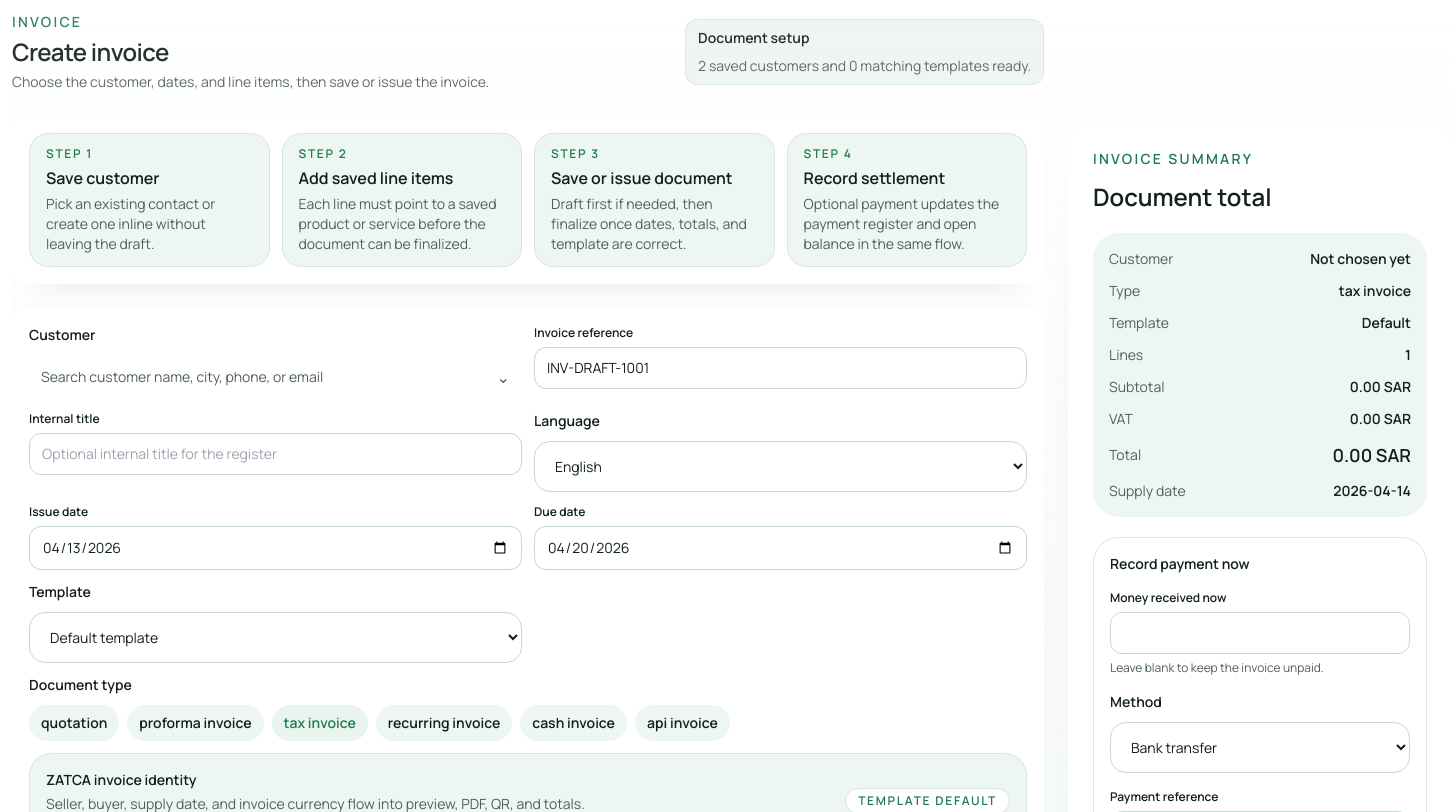
Test case: transaction workflow layer › searchable pickers open and filter real options
Click the button "customer".
click(276, 377)  # box x1=29 y1=355 x2=522 y2=399
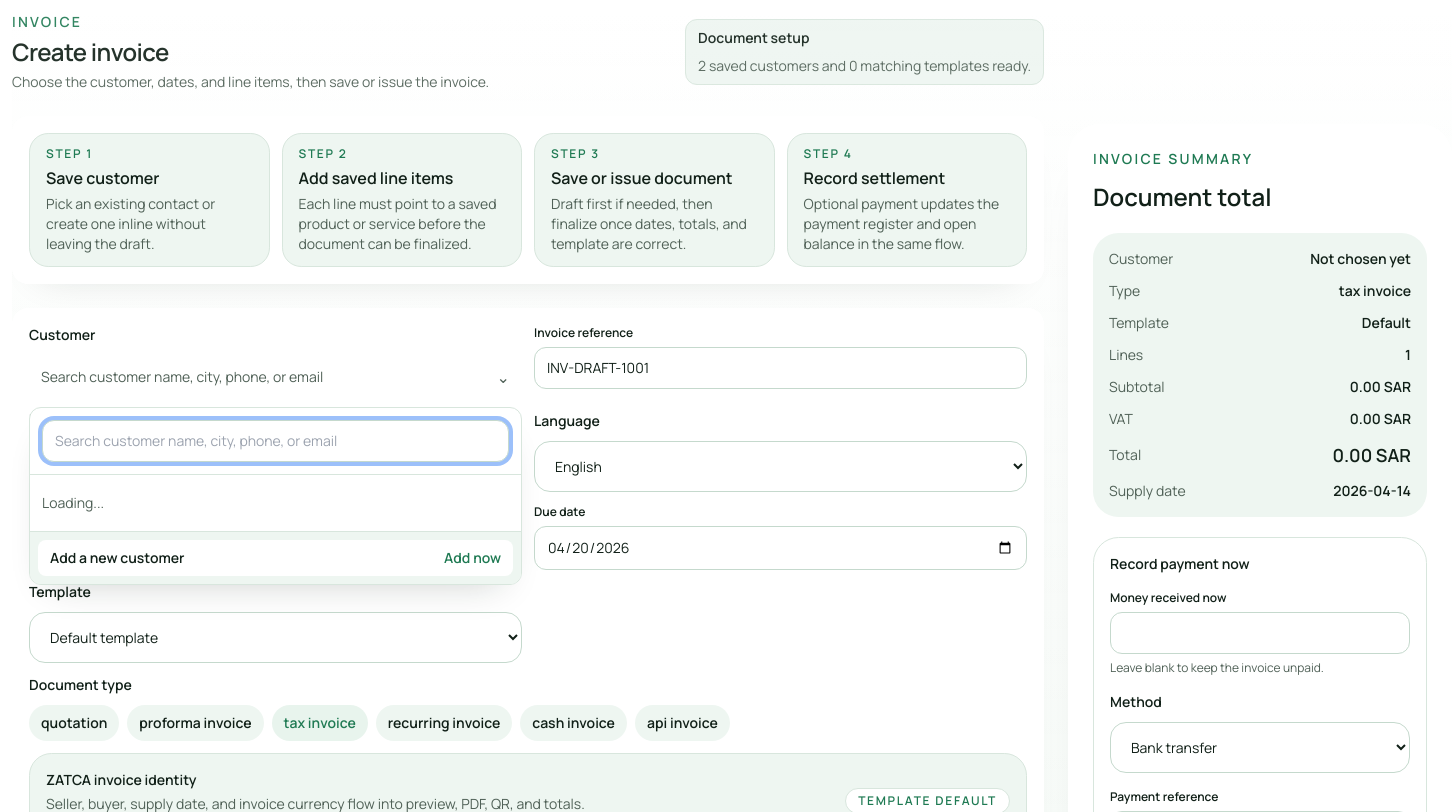
Type "Red Sea" into the field with placeholder "Search customer name, city, phone, or email".
click(276, 441); type("Red Sea")  # box x1=42 y1=420 x2=509 y2=462
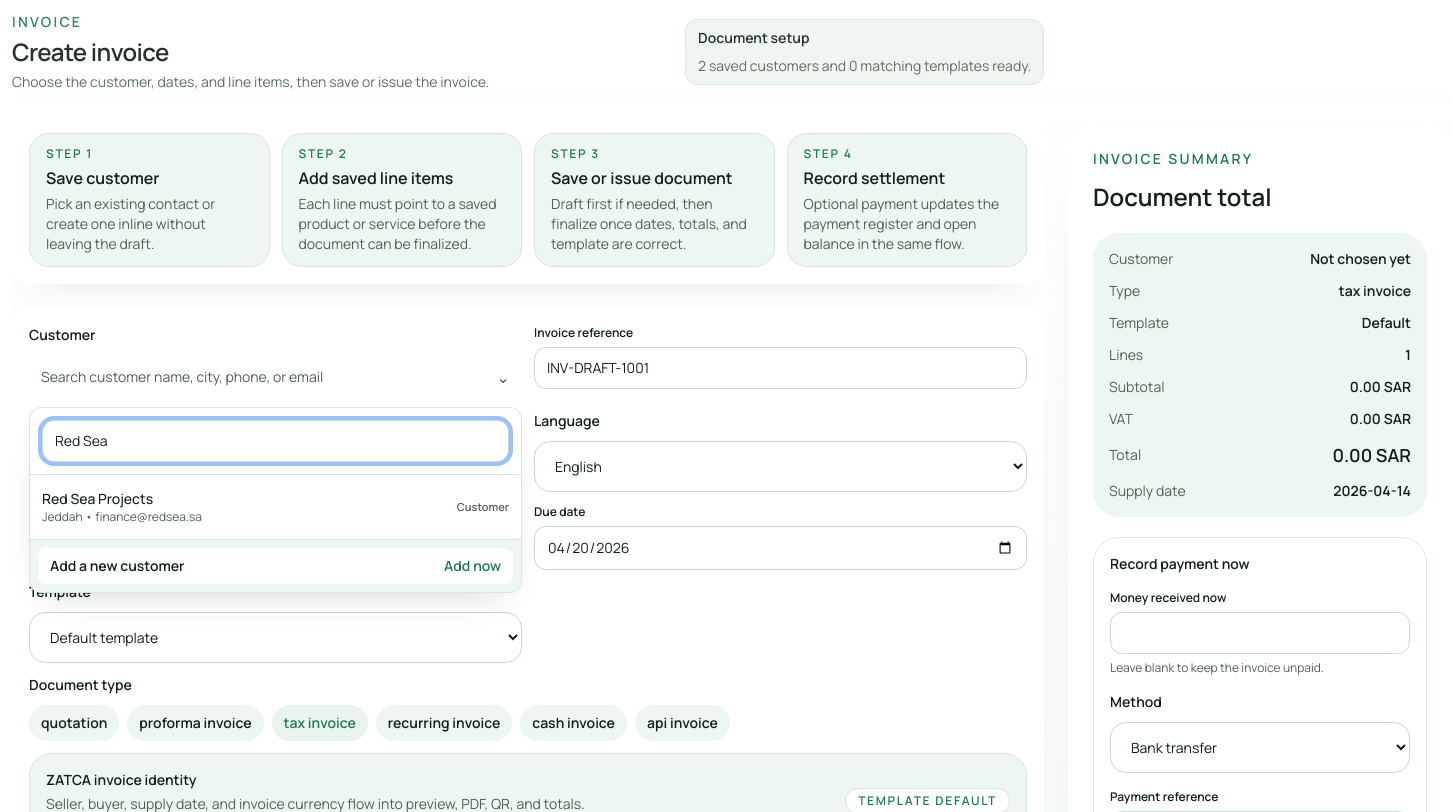
Result: the text "Red Sea Projects" is shown at x1=42 y1=489 x2=153 y2=508
